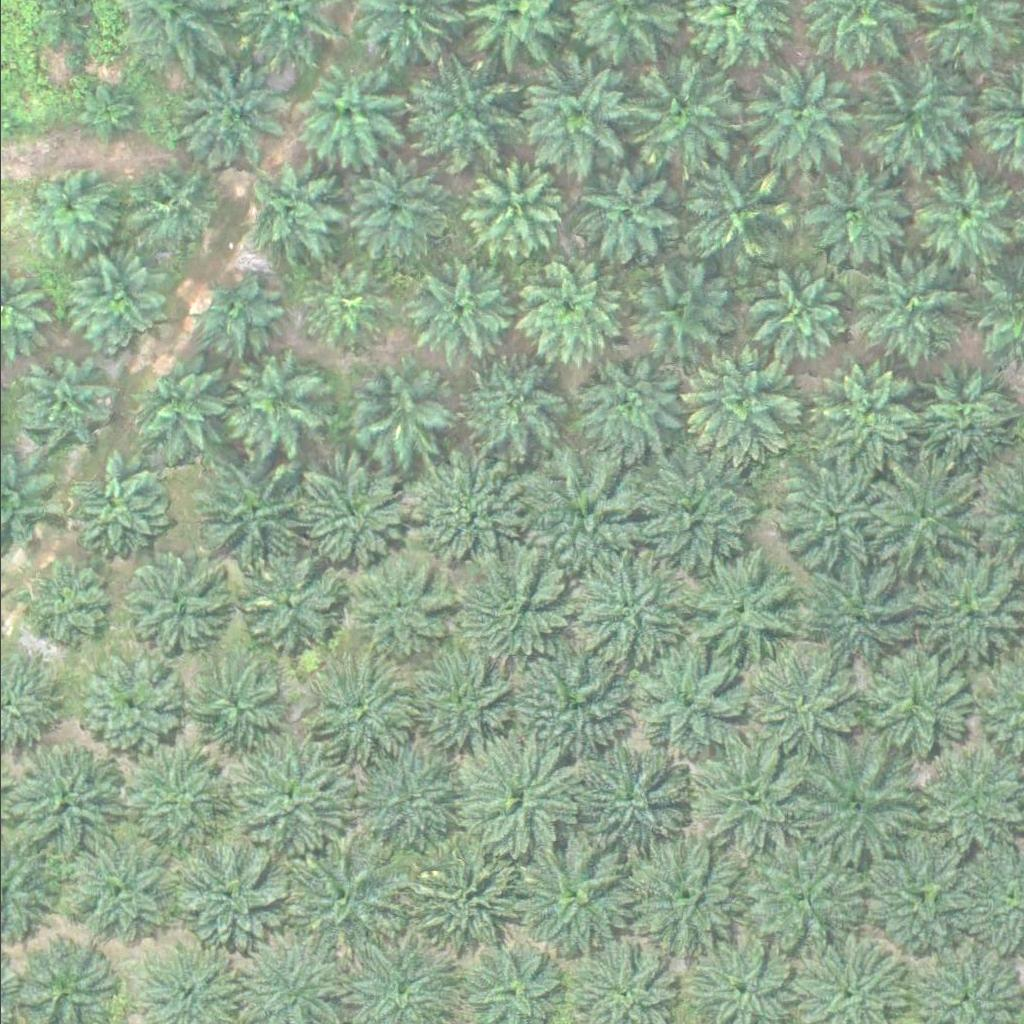Kelapa_Sawit: (508, 54, 634, 179), (684, 343, 810, 468), (567, 339, 693, 464), (626, 456, 752, 581), (515, 456, 641, 581), (796, 556, 922, 681), (790, 743, 916, 868), (684, 732, 810, 857), (555, 740, 681, 865), (619, 833, 745, 958), (737, 833, 863, 958), (853, 840, 979, 965), (406, 453, 532, 578), (441, 544, 567, 669), (2, 737, 128, 862), (109, 734, 235, 859), (231, 734, 357, 859), (451, 736, 577, 861), (410, 844, 536, 969), (287, 834, 413, 959), (158, 835, 284, 960), (866, 464, 991, 589), (564, 551, 689, 676), (290, 448, 415, 573), (339, 737, 453, 850), (850, 252, 963, 365), (170, 57, 283, 170), (400, 55, 513, 168), (679, 548, 792, 661), (633, 648, 746, 761), (745, 649, 858, 762), (191, 457, 304, 570), (58, 833, 171, 946), (746, 59, 860, 171), (623, 57, 737, 169), (672, 154, 786, 266), (505, 254, 619, 366), (854, 649, 968, 761), (850, 63, 963, 175), (807, 355, 920, 467), (771, 463, 884, 575), (513, 842, 626, 954), (916, 164, 1017, 264), (809, 162, 910, 262), (741, 264, 842, 364), (909, 364, 1010, 464), (130, 355, 231, 455), (61, 250, 162, 350), (337, 161, 438, 261), (243, 161, 344, 261), (124, 154, 225, 254), (297, 62, 398, 162), (63, 456, 164, 556), (115, 553, 216, 653), (236, 551, 337, 651), (348, 556, 449, 656), (306, 664, 407, 764), (77, 657, 178, 757), (581, 168, 681, 268), (627, 258, 727, 358), (455, 355, 555, 455), (347, 363, 447, 463), (221, 351, 321, 451), (405, 262, 505, 362), (460, 159, 560, 259), (414, 645, 514, 745), (527, 655, 627, 754), (189, 270, 277, 358), (297, 263, 385, 351), (19, 357, 107, 445), (185, 660, 273, 748), (21, 168, 110, 255), (18, 556, 106, 643), (79, 84, 142, 146)
